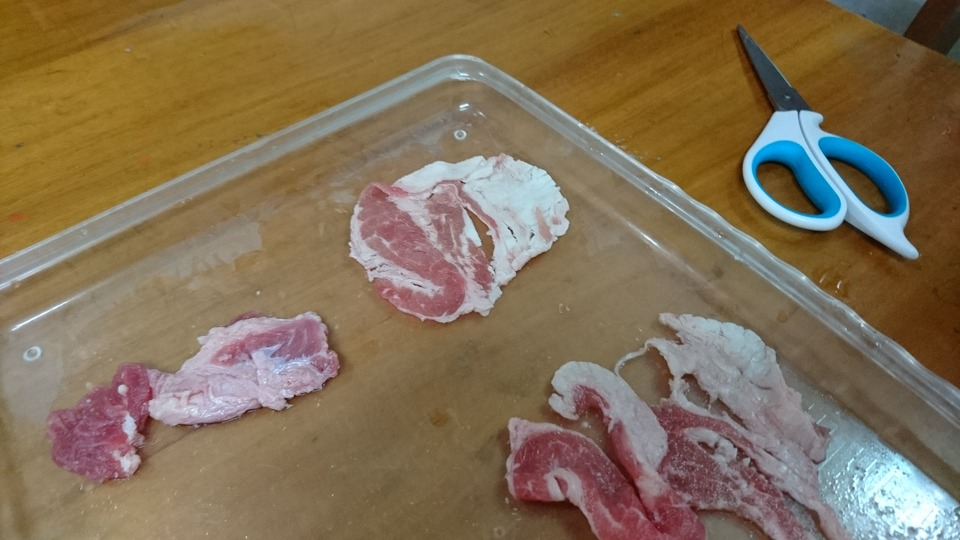restructured meat: (507, 302, 857, 540), (40, 303, 337, 493), (346, 152, 572, 326)
